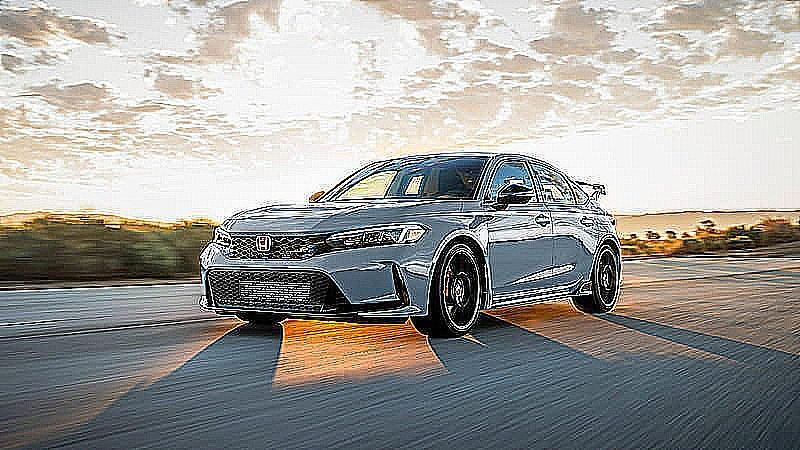Car hood: (220, 198, 468, 238)
Fender - -F-L-: (426, 194, 495, 311)
Fender - -R-L-: (600, 223, 623, 263)
Front bumper: (193, 247, 440, 324)
Headlight - -L-: (322, 219, 431, 254)
Headlight - -R-: (204, 222, 235, 252)
Passenger-s door - -F-L-: (485, 151, 554, 299)
Passenger-s door - -R-L-: (544, 163, 601, 293)
Rear bumper: (613, 249, 633, 295)
Rear light - -L-: (601, 210, 624, 231)
Side bumper - -L-: (481, 275, 595, 313)
Side mirror - -L-: (490, 177, 536, 208)
Side mirror - -R-: (305, 185, 328, 206)
